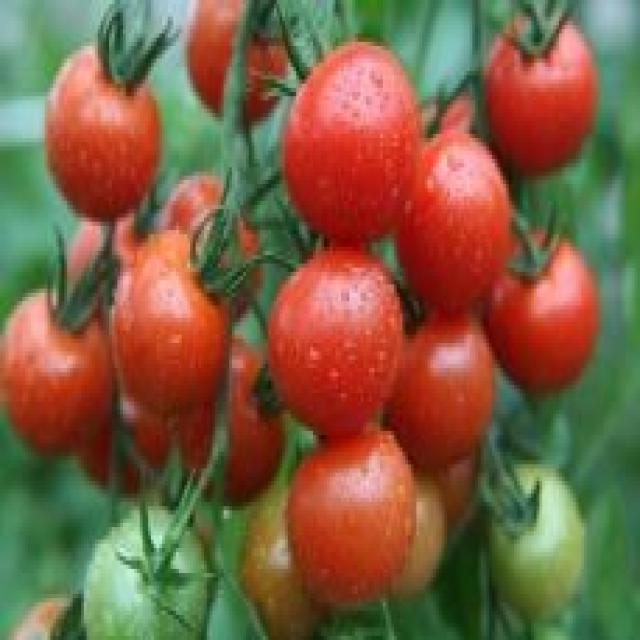level 1: (72, 492, 224, 640)
level 2: (486, 446, 610, 640)
level 3: (238, 482, 332, 636), (366, 454, 451, 614)
level 5: (105, 212, 245, 418), (373, 305, 499, 463)
level 6: (265, 42, 430, 244), (281, 408, 433, 614), (385, 101, 517, 316), (260, 228, 395, 436), (0, 263, 120, 481), (478, 209, 601, 395), (35, 46, 173, 208), (476, 5, 612, 150), (177, 2, 295, 131)
